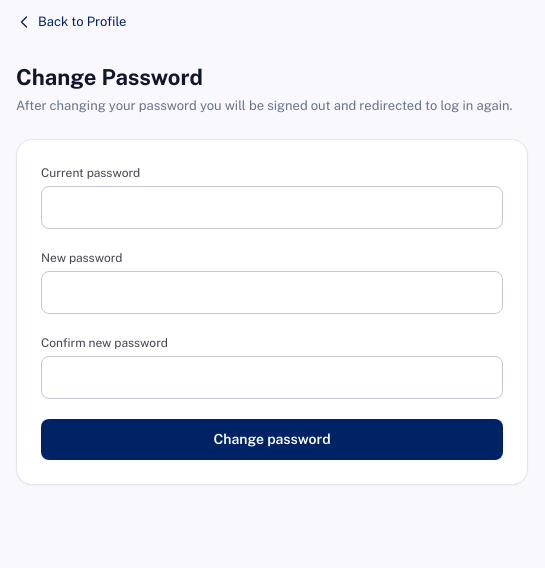
AC-09: ChangePasswordScreen shows generic error for other failures › shows the backend message for other errors
Type "Currpass1!" into the password field labelled "Current password" at (272, 208), box [41,186,503,229]
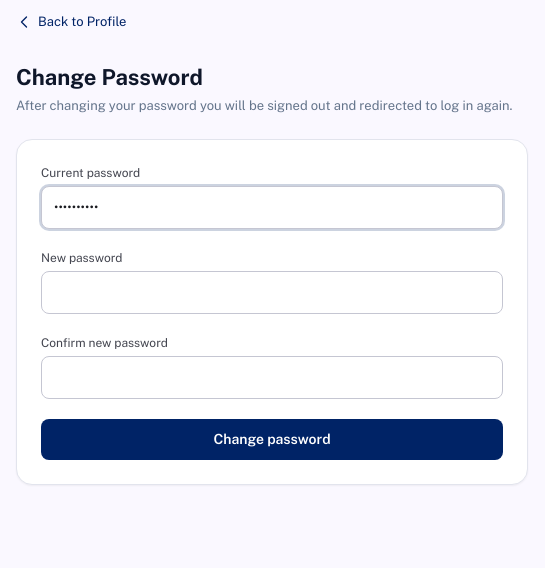
Type "Newpass123!" into the password field labelled "New password" at (272, 293), box [41,271,503,314]
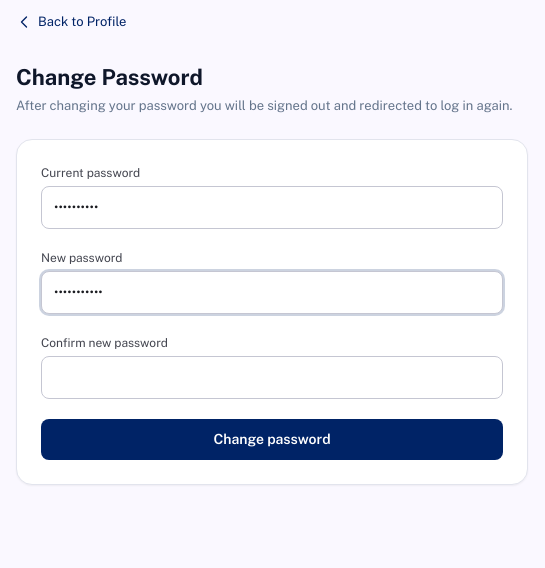
Type "Newpass123!" into the password field labelled "Confirm new password" at (272, 378), box [41,356,503,399]
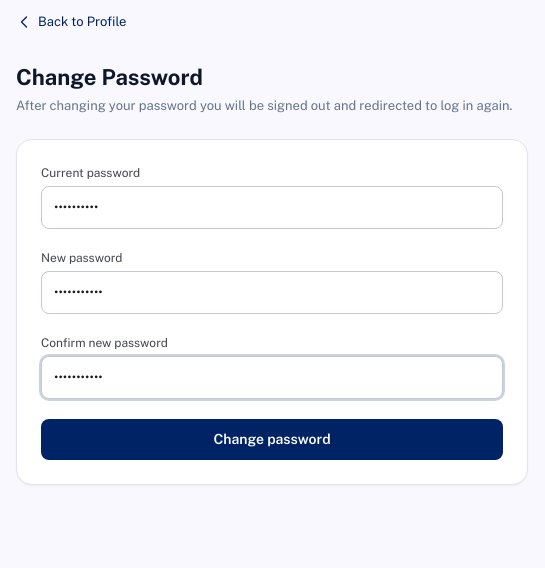
Click the button "Change password" at (272, 440), box [41,419,503,460]
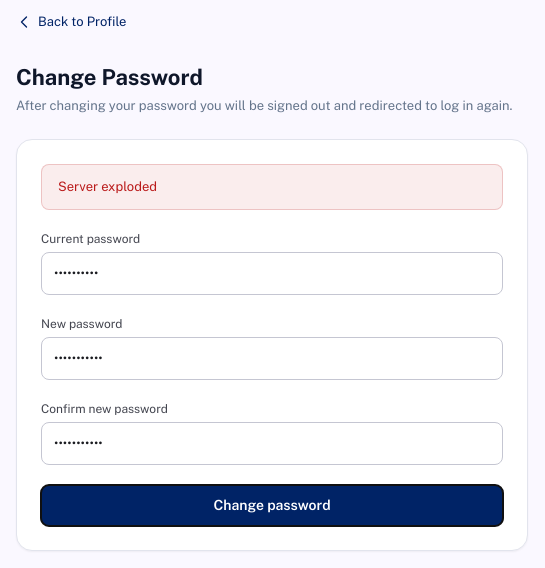
Now the text "Server exploded" is shown, box [41,164,503,210]
